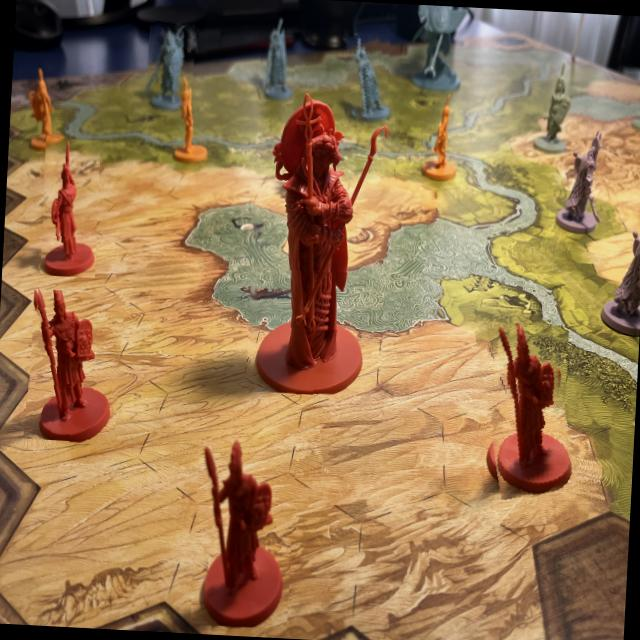amon: (244, 88, 395, 398)
amon_follower: (190, 436, 298, 630), (474, 319, 578, 500), (25, 288, 124, 444), (40, 138, 102, 278)
isis_follower: (340, 31, 396, 130), (144, 22, 198, 118), (258, 17, 298, 103)
